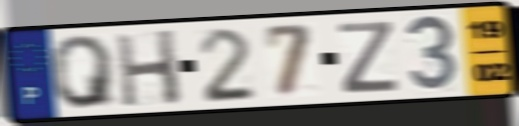2: (197, 25, 259, 105)
3: (403, 11, 461, 96)
7: (262, 21, 320, 100)
H: (112, 27, 185, 109)
Q: (47, 32, 120, 111)
Z: (336, 19, 400, 96)
